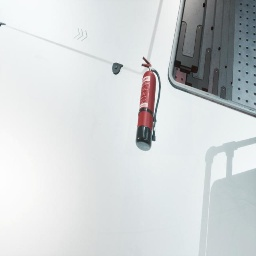FireExtinguisher ]: (135, 56, 161, 151)
